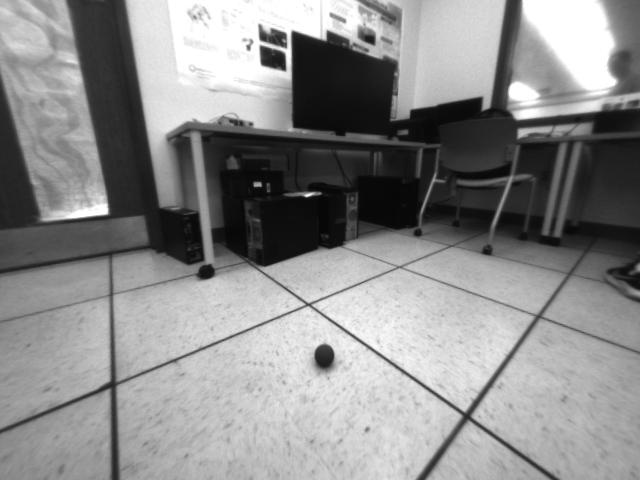dogtoy: (308, 342, 342, 371)
